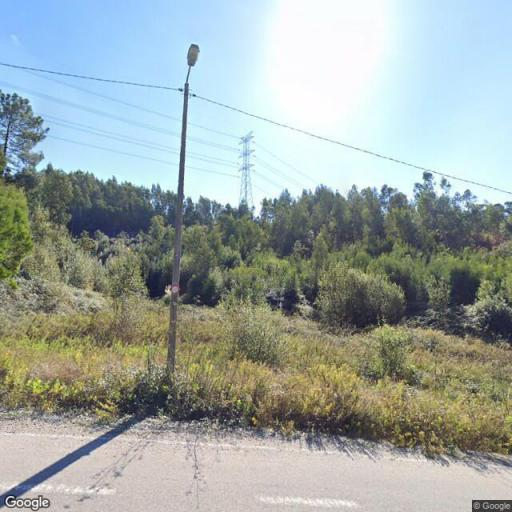ss_3: (235, 131, 256, 216)
